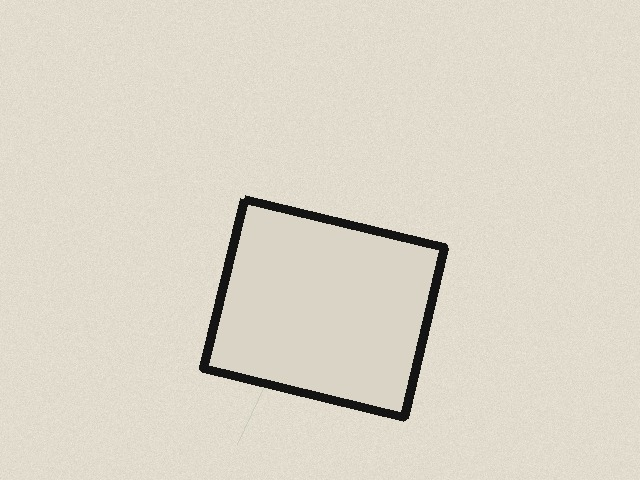parking_area: (203, 199, 444, 417)
